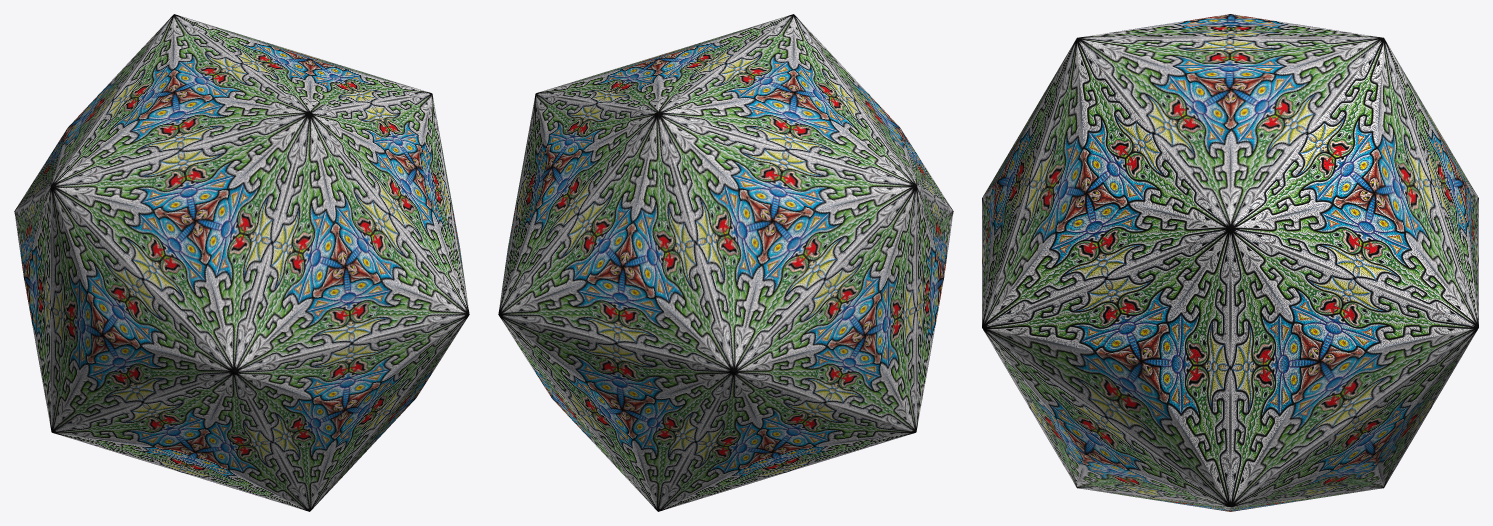
The model's file is TriakisIcosahedron5.obj.
3 views of the same model, side by side, from view 1: azimuth 30°, elevation 25°; view 2: azimuth 150°, elevation 25°; view 3: azimuth 270°, elevation 25° (orthographic). The views are drawn at different scales.
Size of the model in its own units: 5.85 by 5.85 by 5.85.
Materials: 1 (1 with a texture image).
